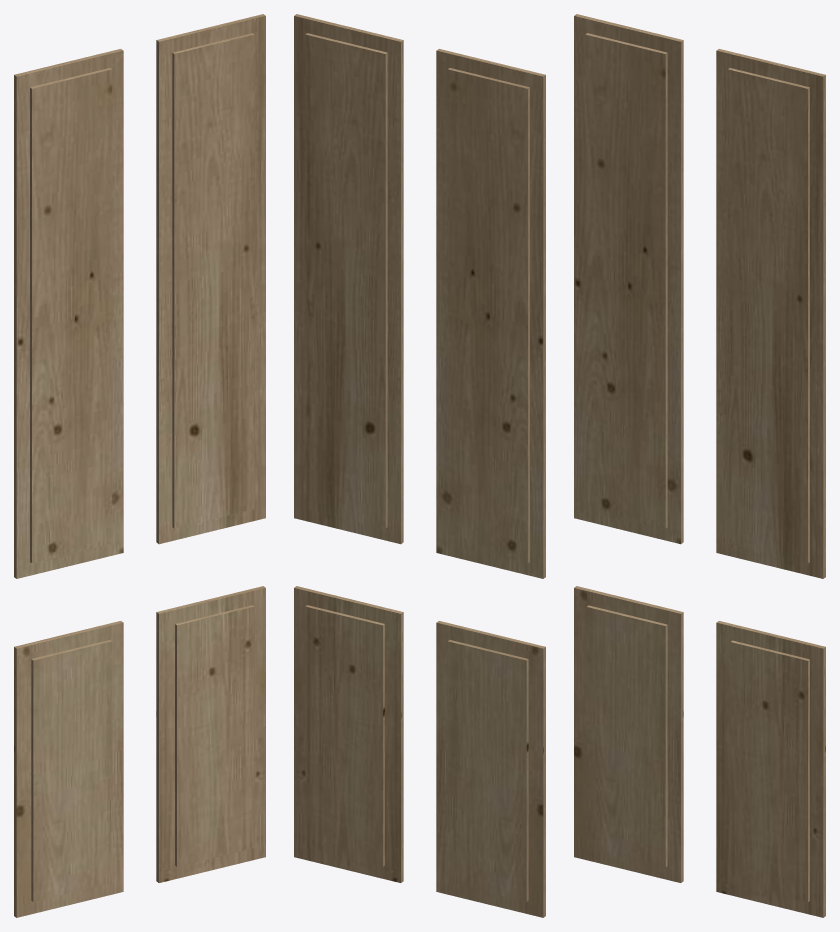
Rendered from Joglo_part_210.fbx.
3 views of the same model, side by side, from view 1: azimuth 30°, elevation 25°; view 2: azimuth 150°, elevation 25°; view 3: azimuth 330°, elevation 25° (orthographic).
Parts seen in each view (by area): view 1: Mesh283_Wood___Pine_Grained_Horizontal_0.001; view 2: Mesh283_Wood___Pine_Grained_Horizontal_0.001; view 3: Mesh283_Wood___Pine_Grained_Horizontal_0.001.
Boxes of the visible parts, left/top/right/bottom form: Mesh283_Wood___Pine_Grained_Horizontal_0.001: left=14, top=14, right=265, bottom=917; Mesh283_Wood___Pine_Grained_Horizontal_0.001: left=294, top=14, right=545, bottom=917; Mesh283_Wood___Pine_Grained_Horizontal_0.001: left=574, top=14, right=825, bottom=917.
Bounding box in the file's own units: 22.13 × 71.34 × 1.02.
